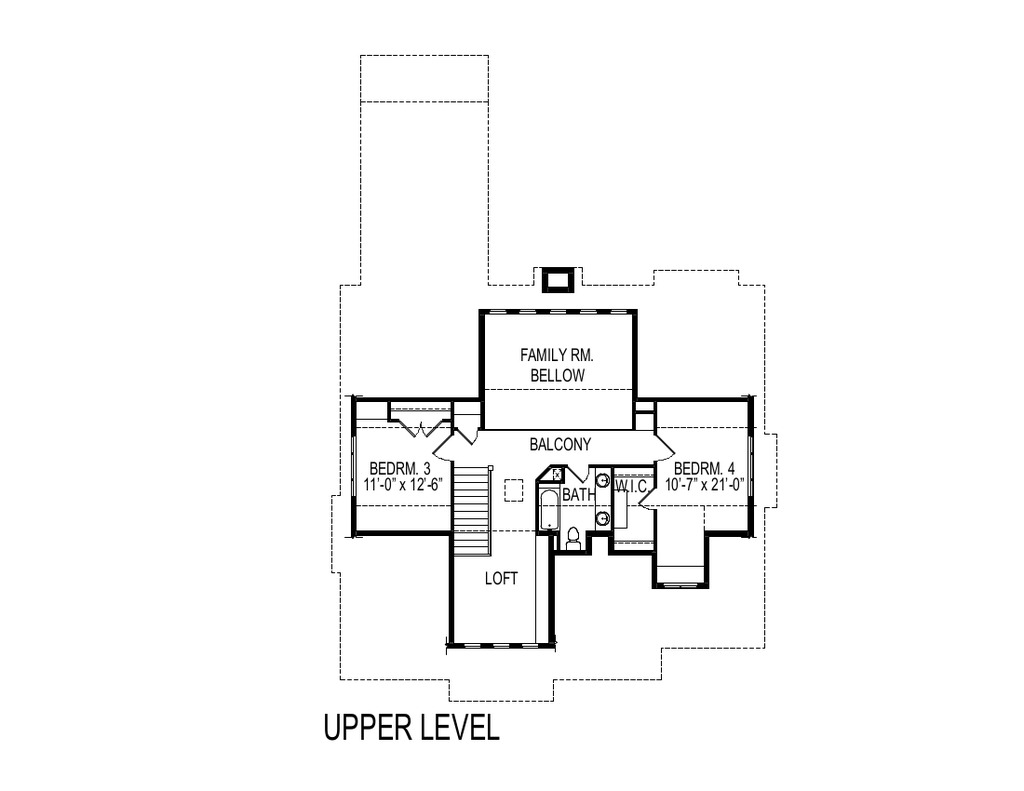door: (636, 478, 669, 518), (644, 435, 686, 466), (394, 419, 443, 438), (435, 431, 459, 464), (459, 427, 482, 447)
large_sink: (555, 519, 581, 558)
small_sink: (594, 463, 613, 538)
stairs: (453, 465, 500, 565)
tub: (537, 486, 561, 539)
window: (485, 302, 638, 316), (453, 639, 552, 652), (744, 435, 755, 504), (659, 572, 697, 591)
